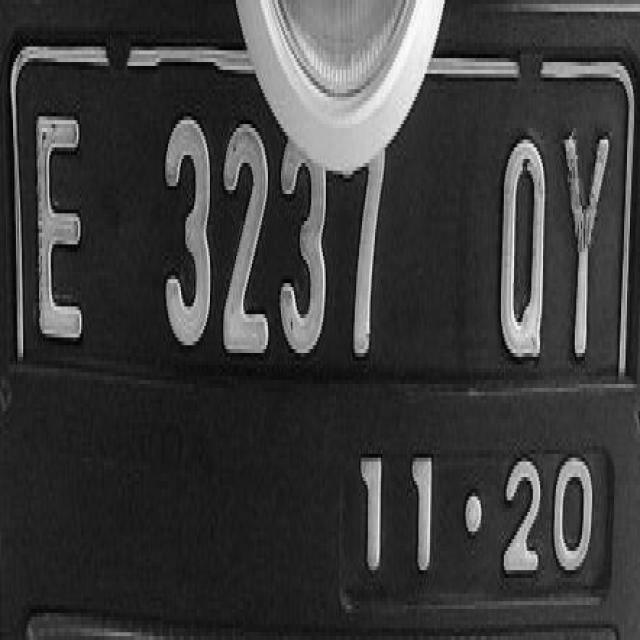2: (210, 110, 270, 360)
3: (273, 134, 337, 360), (156, 113, 214, 354)
7: (346, 138, 416, 359)
E: (23, 113, 107, 337)
Q: (498, 106, 550, 377)
Y: (563, 119, 611, 365)
